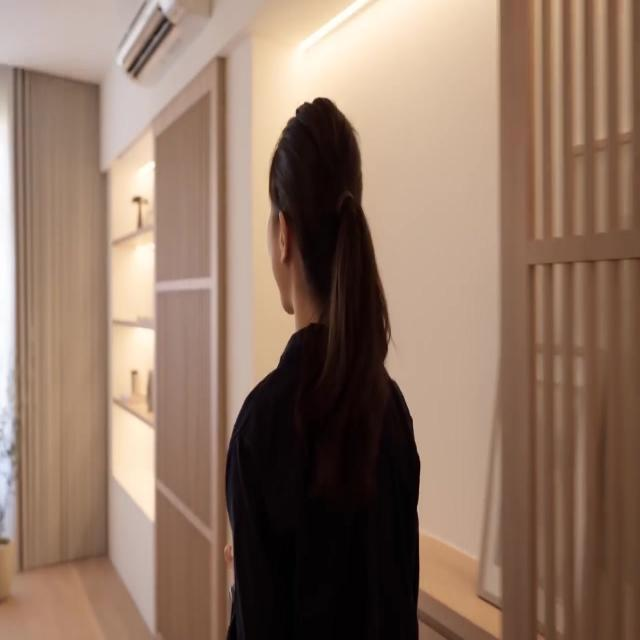door: (154, 56, 226, 638)
person: (224, 95, 421, 638)
